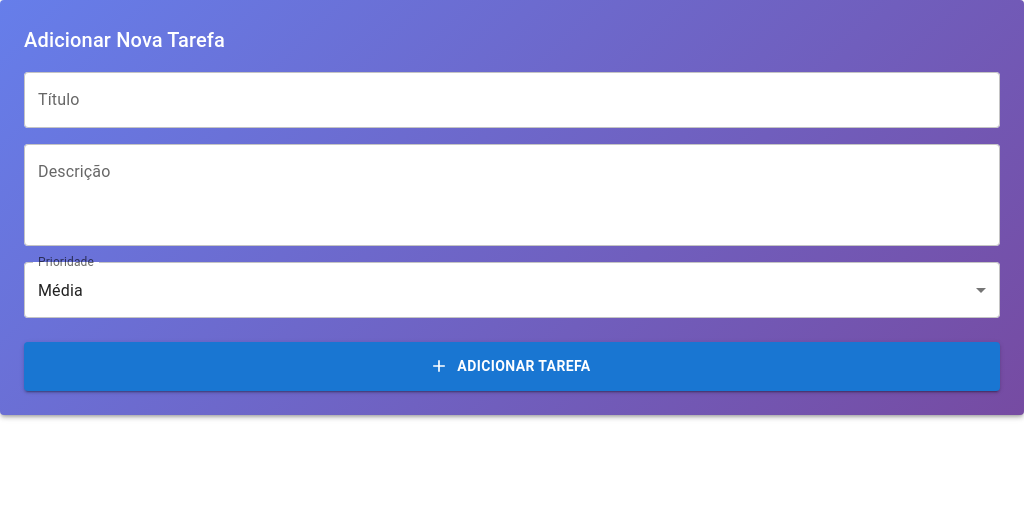
Test: FormularioTarefa › Validação › deve limpar mensagem de erro ao submeter com sucesso
# Primeiro submit com erro
Step 1. Click the button with test id "botao-adicionar" → x=512, y=366, box [24, 342, 1000, 390]
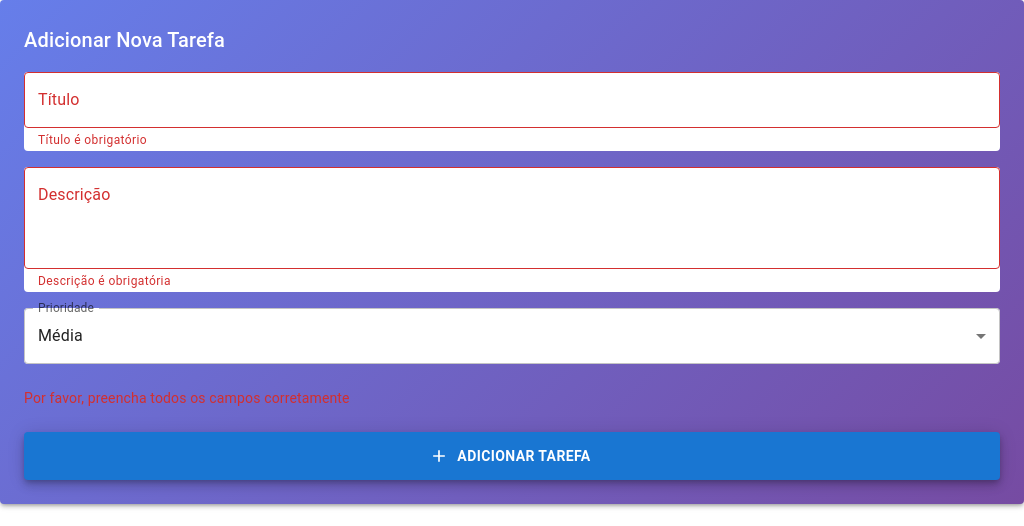
Check: the text "Por favor, preencha todos os campos corretamente" is shown, box [24, 390, 350, 406]
# Segundo submit com sucesso
Step 2. Type "Tarefa Teste" into the field labelled "Título" → x=512, y=100, box [24, 72, 1000, 128]
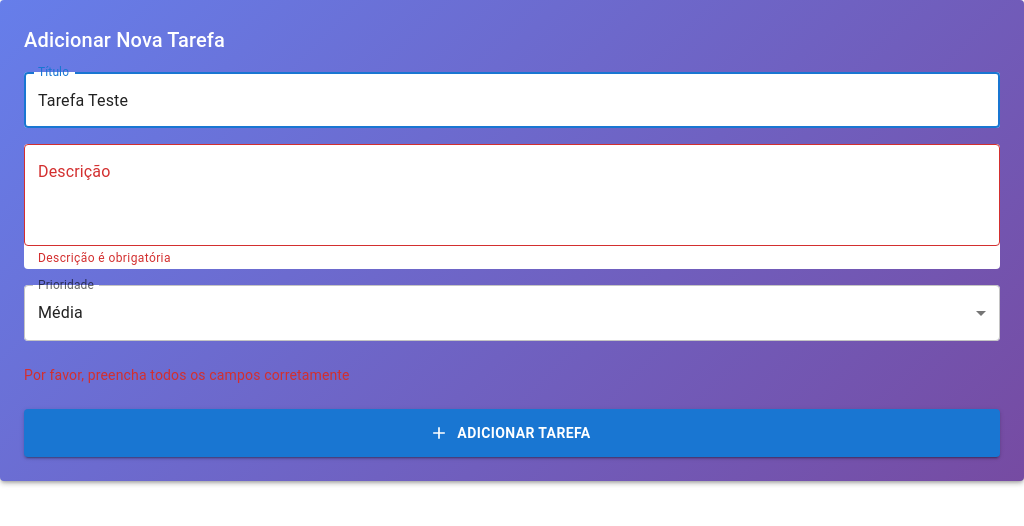
Step 3. Type "Descrição Teste" into the text box labelled "Descrição" → x=512, y=195, box [38, 160, 986, 230]
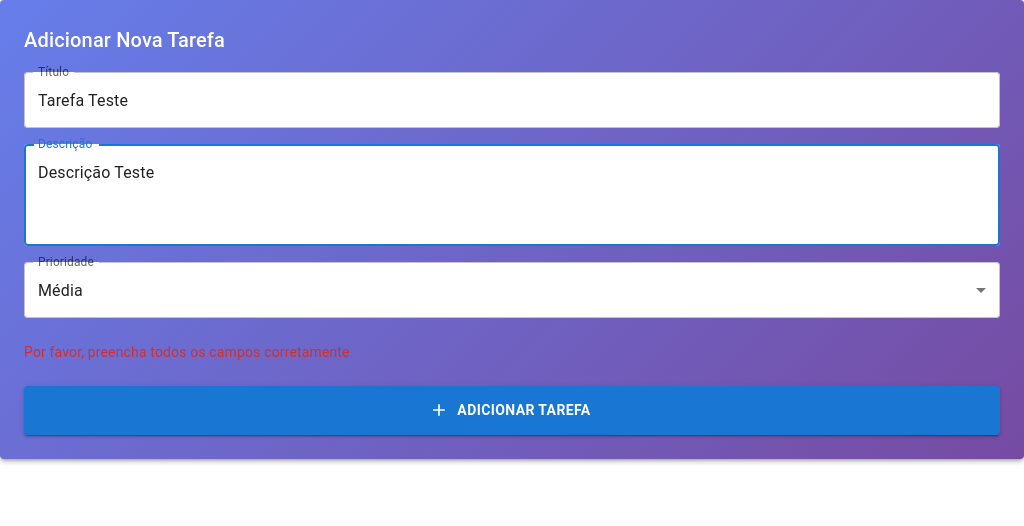
Step 4. Click the button with test id "botao-adicionar" → x=512, y=410, box [24, 386, 1000, 434]
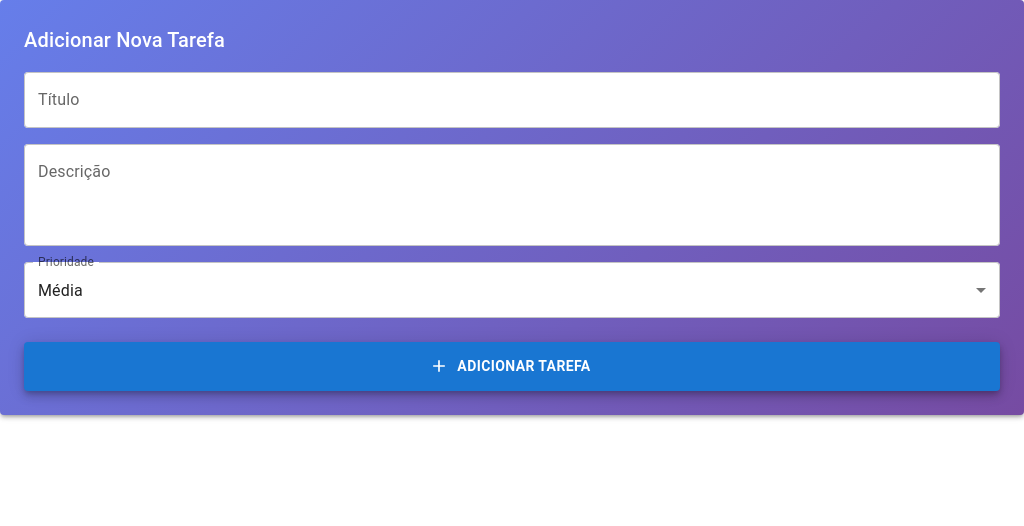
Check: the text with test id "mensagem-erro" is gone
